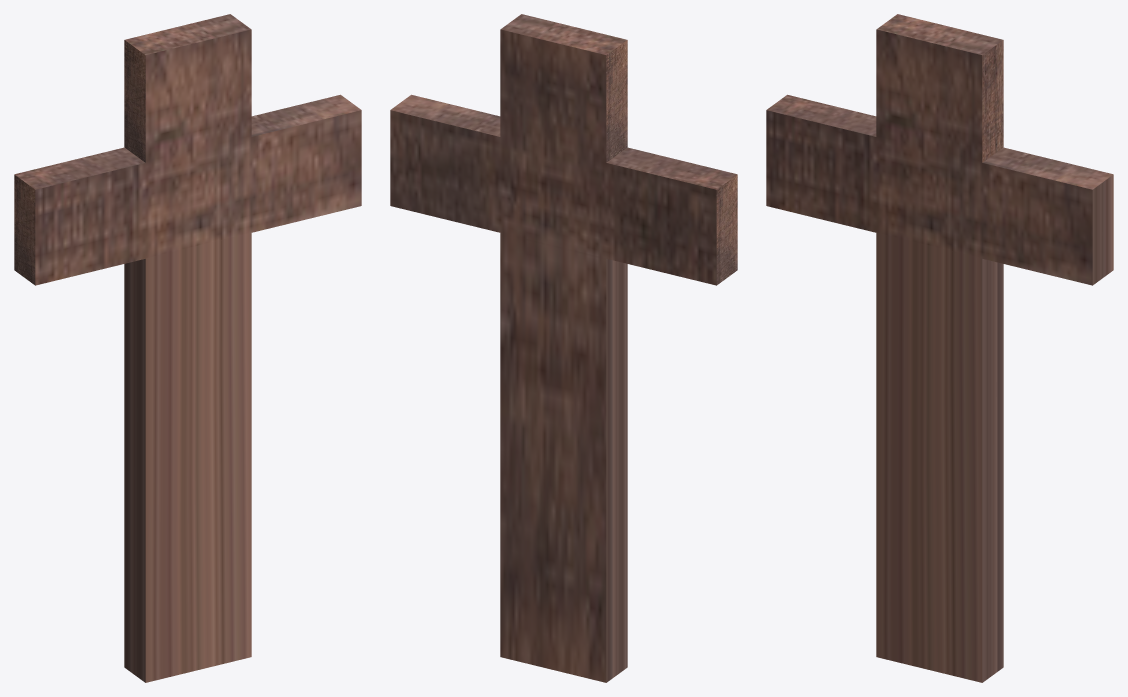
Rendered from cross.FBX.
3 views of the same model, side by side, from view 1: azimuth 30°, elevation 25°; view 2: azimuth 150°, elevation 25°; view 3: azimuth 330°, elevation 25° (orthographic).
Visible parts, largest first — view 1: Box001; view 2: Box001; view 3: Box001.
Boxes of the visible parts, x1=… form: Box001: x1=14, y1=14, x2=361, y2=682; Box001: x1=390, y1=14, x2=737, y2=682; Box001: x1=766, y1=14, x2=1113, y2=682.
Size of the model in its own units: 19.71 by 36.21 by 2.2.
1 material, 1 textured.
